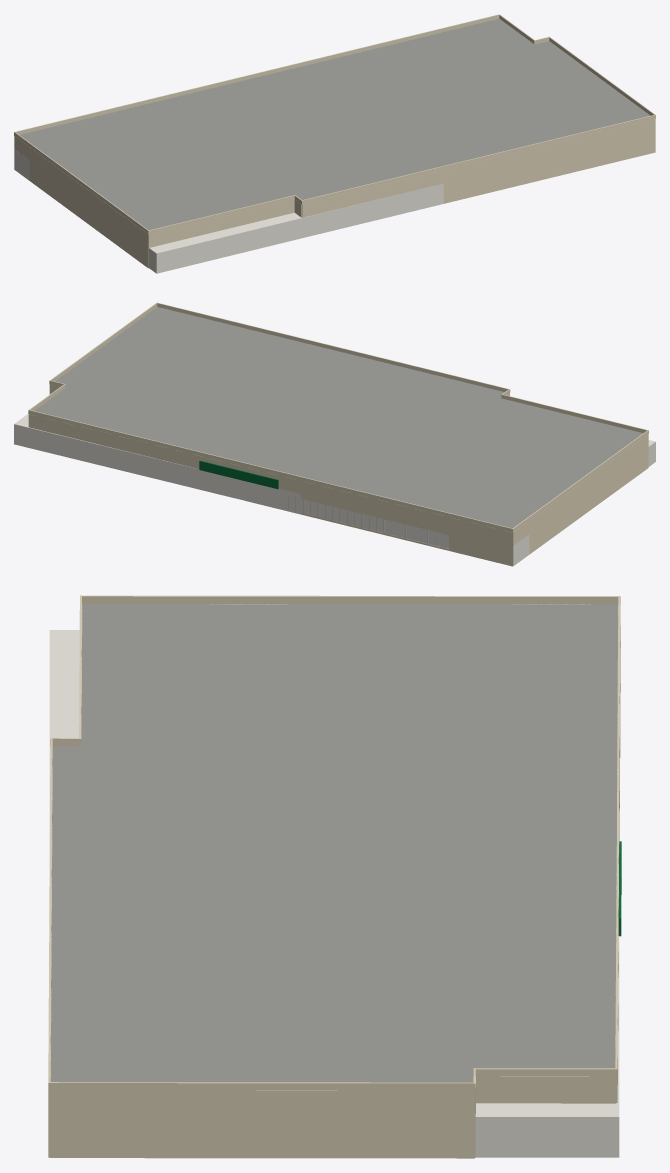
The model's file is lieu_ararat.glb.
3 renders of one model, top to bottom at view 1: azimuth 30°, elevation 25°; view 2: azimuth 150°, elevation 25°; view 3: azimuth 270°, elevation 25°, orthographic. The views are drawn at different scales.
Parts seen in each view (by area): view 1: ararat_structure-col, zone_interieur_ararat, ararat_details; view 2: ararat_structure-col, zone_interieur_ararat, ararat_details; view 3: ararat_structure-col, ararat_details, zone_interieur_ararat.
Part boxes in pixels (left/top/right/bottom): ararat_structure-col: left=14, top=18, right=655, bottom=268; zone_interieur_ararat: left=14, top=149, right=443, bottom=273; ararat_details: left=14, top=14, right=655, bottom=234; ararat_structure-col: left=28, top=307, right=648, bottom=566; zone_interieur_ararat: left=14, top=414, right=655, bottom=565; ararat_details: left=28, top=302, right=648, bottom=548; ararat_structure-col: left=48, top=604, right=620, bottom=1158; ararat_details: left=48, top=595, right=621, bottom=1090; zone_interieur_ararat: left=49, top=630, right=619, bottom=1157.
Size of what is drawn, in the model's own units: 140 by 10 by 69.34.
